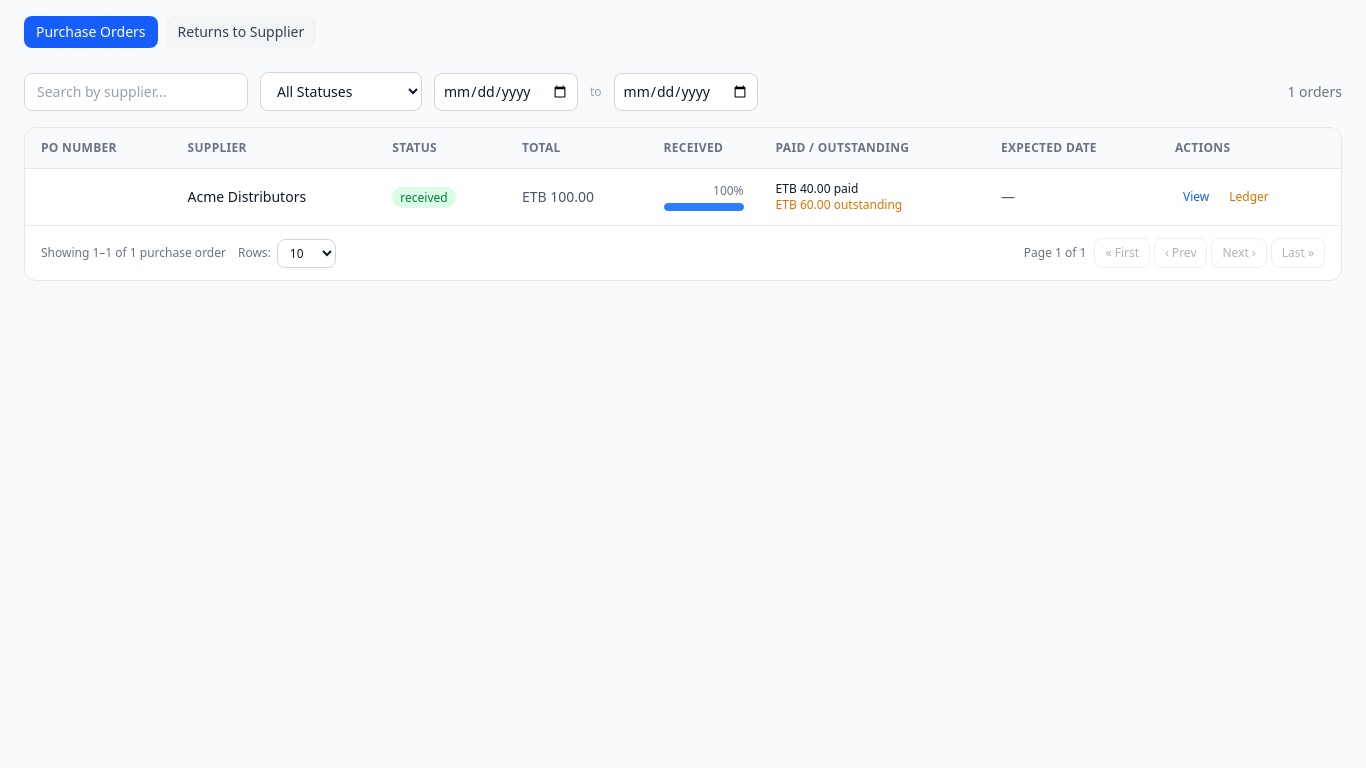
Test case: ProcurementPage supplier payments › shows payment numbers and a reversed payment with its reason
This screenshot has width=1366, height=768.
Check: the text "Acme Distributors" is shown, box [172,168,376,225]
Click the button "View": {"x": 1196, "y": 197} [1175,185,1217,209]
(page scrolled)
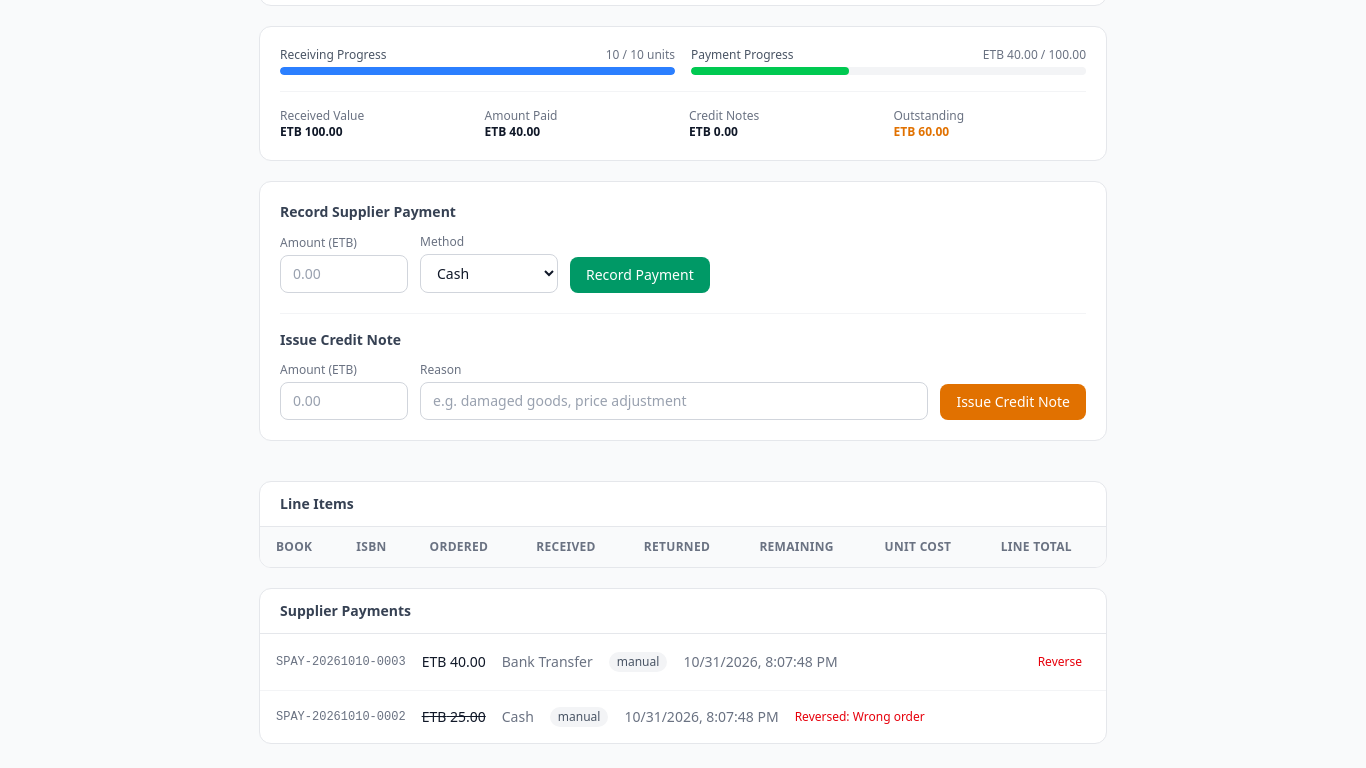
Check: the text "SPAY-20261010-0003" is shown, box [276,654,406,670]
Check: the text "Reversed: Wrong order" is shown, box [795,709,925,725]
Check: the number of buttons "Reverse" is 1, box [1030,650,1090,674]
